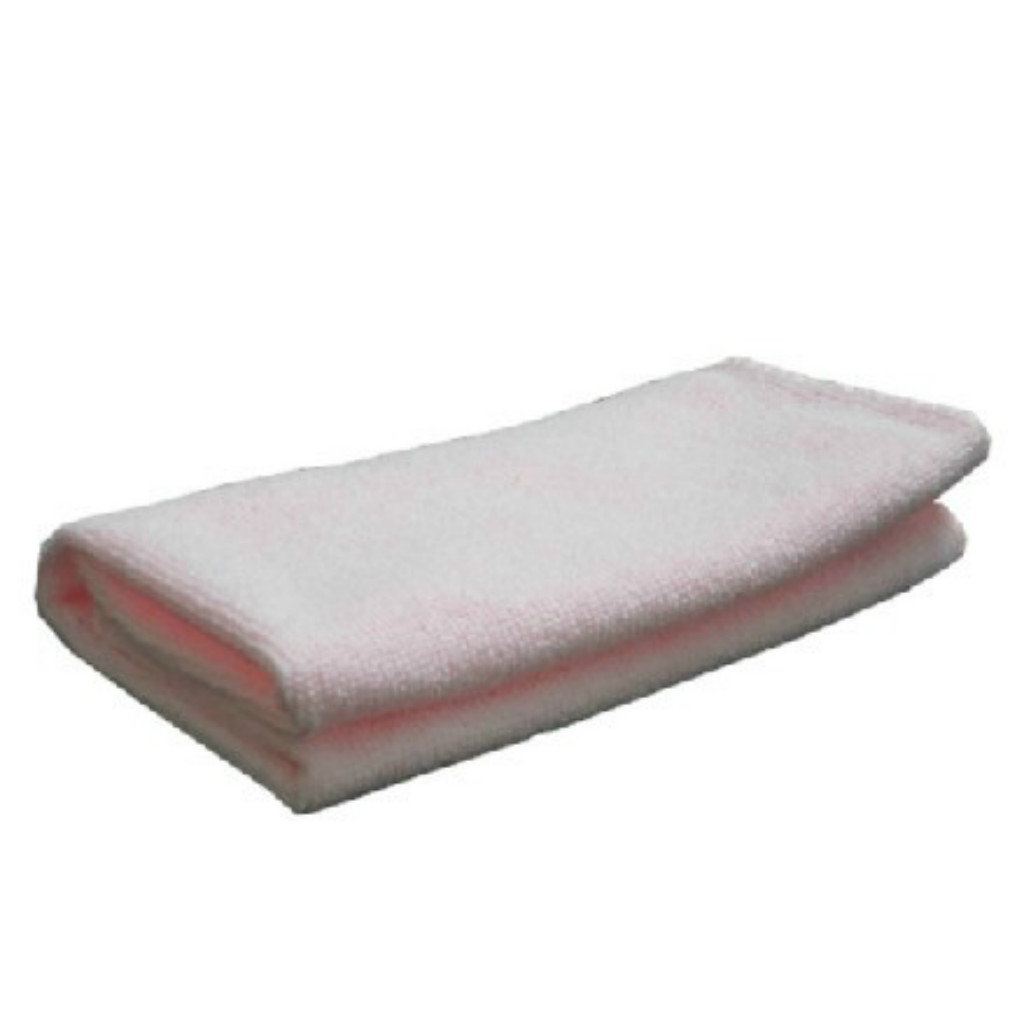flexible: (39, 347, 995, 820)
